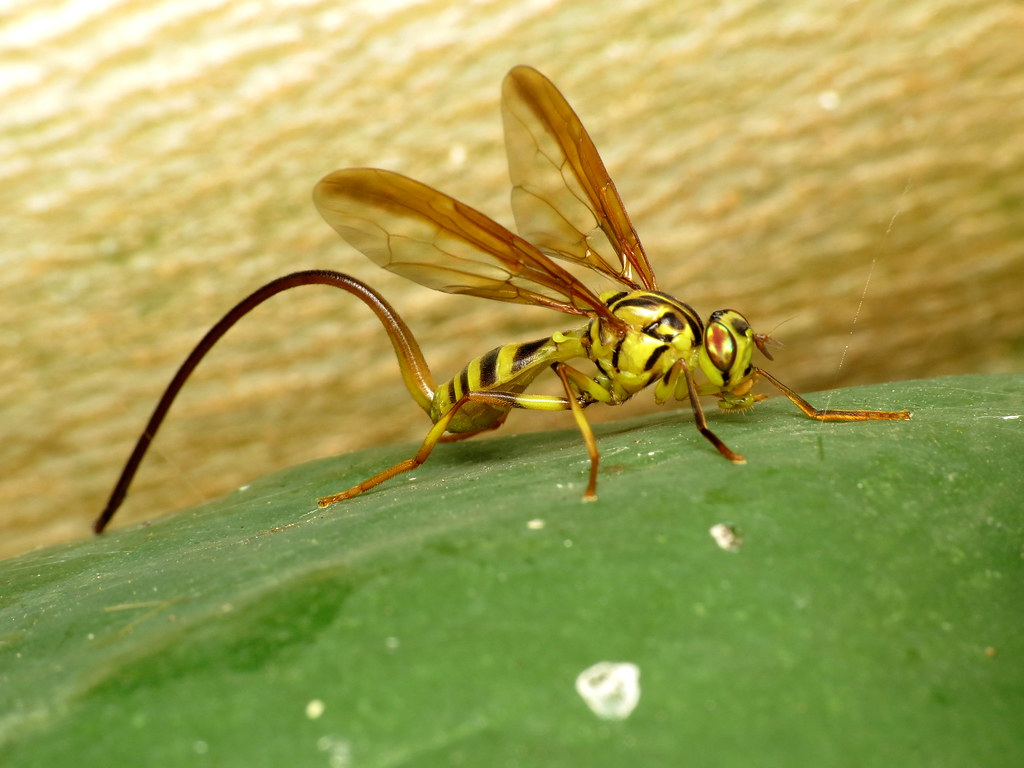Fruit fly: (134, 94, 894, 587)
